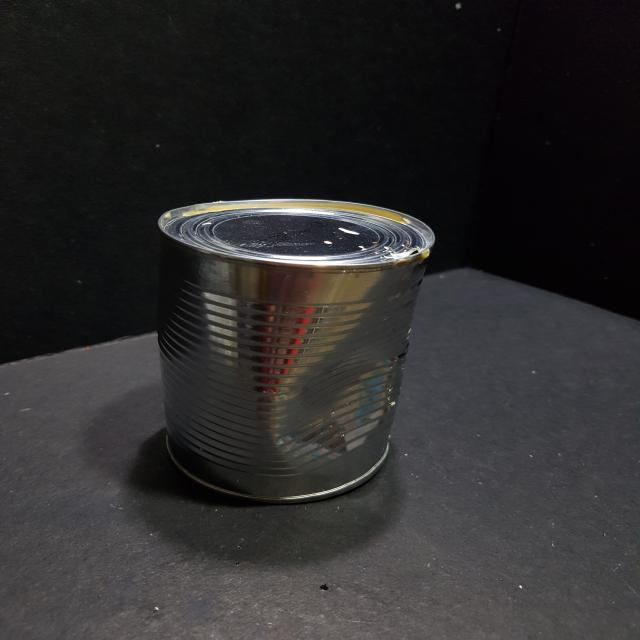metal-can: (143, 193, 442, 510)
